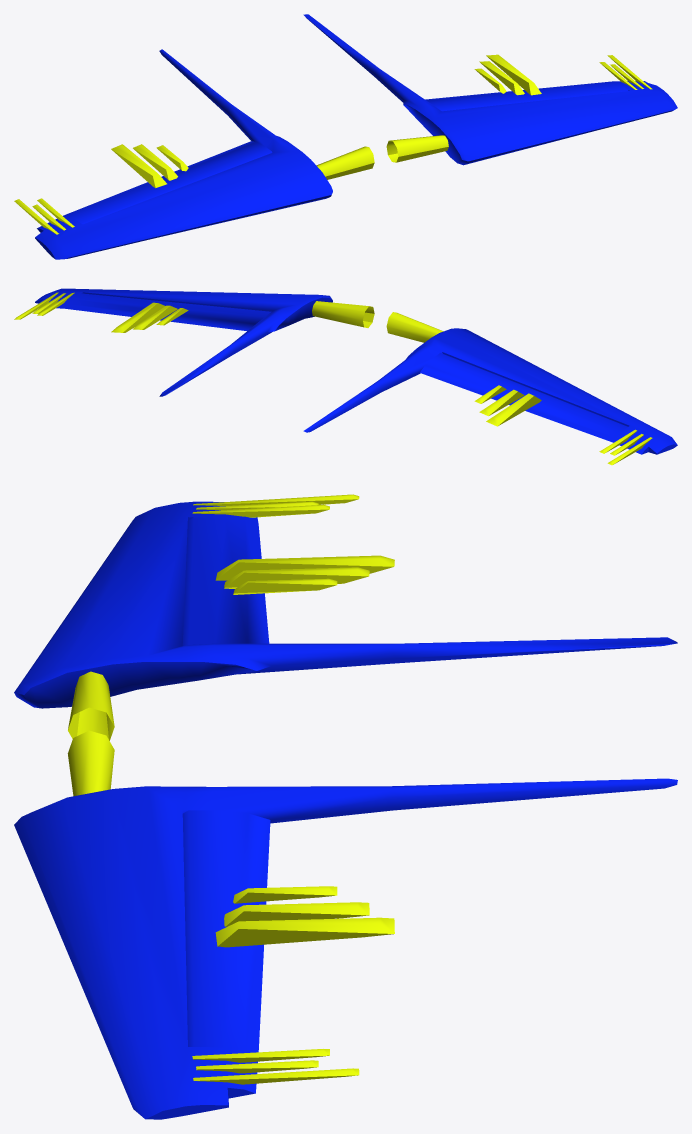
The model's file is Wings.FBX.
The picture shows the model from 3 angles, top to bottom: view 1: azimuth 30°, elevation 25°; view 2: azimuth 150°, elevation 25°; view 3: azimuth 270°, elevation 25°; orthographic projection. The views are drawn at different scales.
Visible parts, largest first — view 1: Scifi_Bike-1_Wing-1, Scifi_Bike-1_Wing-2; view 2: Scifi_Bike-1_Wing-1, Scifi_Bike-1_Wing-2; view 3: Scifi_Bike-1_Wing-2, Scifi_Bike-1_Wing-1.
Boxes of the visible parts, x1,y1,x2,y2 form: Scifi_Bike-1_Wing-1: (14,49,374,259); Scifi_Bike-1_Wing-2: (303,14,677,165); Scifi_Bike-1_Wing-1: (303,312,677,465); Scifi_Bike-1_Wing-2: (14,288,374,396); Scifi_Bike-1_Wing-2: (14,730,677,1119); Scifi_Bike-1_Wing-1: (14,494,677,740).
Bounding box in the file's own units: 2.92 × 0.2521 × 1.36.
